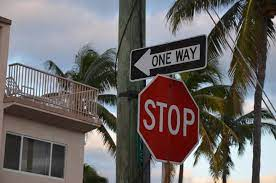Stop: (134, 72, 202, 167)
